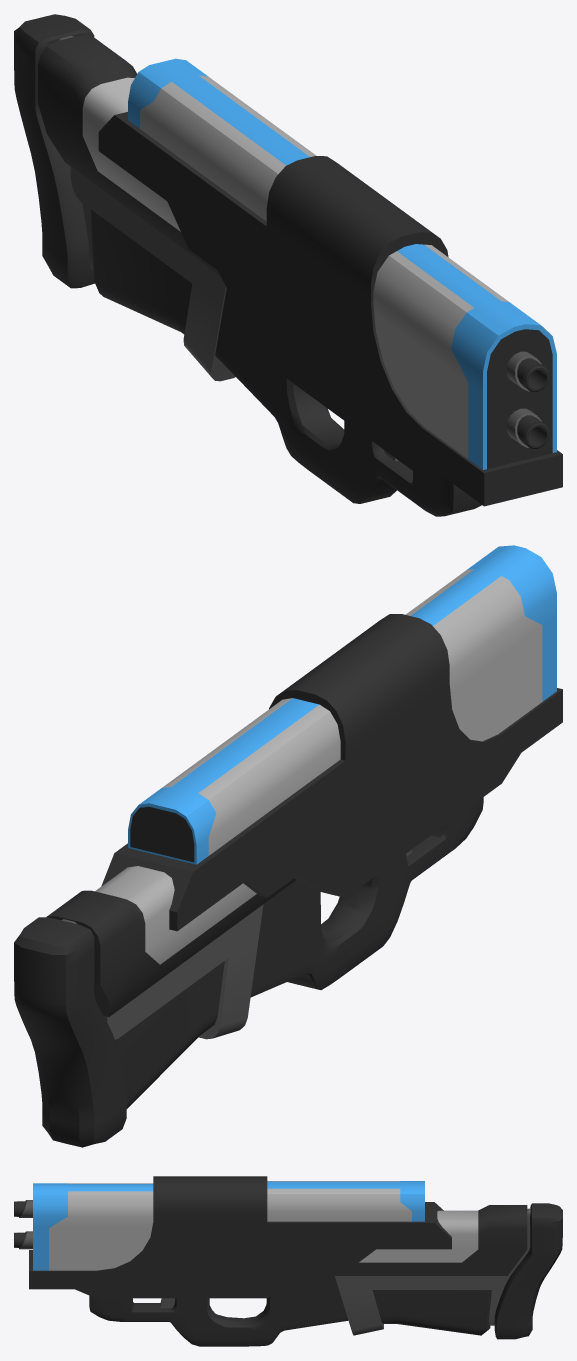
The model's file is arc_caster.glb.
3 views of the same model, one above another, from view 1: azimuth 30°, elevation 25°; view 2: azimuth 150°, elevation 25°; view 3: azimuth 270°, elevation 25° (orthographic). The views are drawn at different scales.
Visible parts, largest first — view 1: Cube.041; view 2: Cube.041; view 3: Cube.041.
Boxes of the visible parts, x1,y1,x2,y2 form: Cube.041: (14,14,562,516); Cube.041: (14,545,562,1147); Cube.041: (14,1176,562,1346).
Bounding box in the file's own units: 0.0727 × 0.2607 × 0.8.
